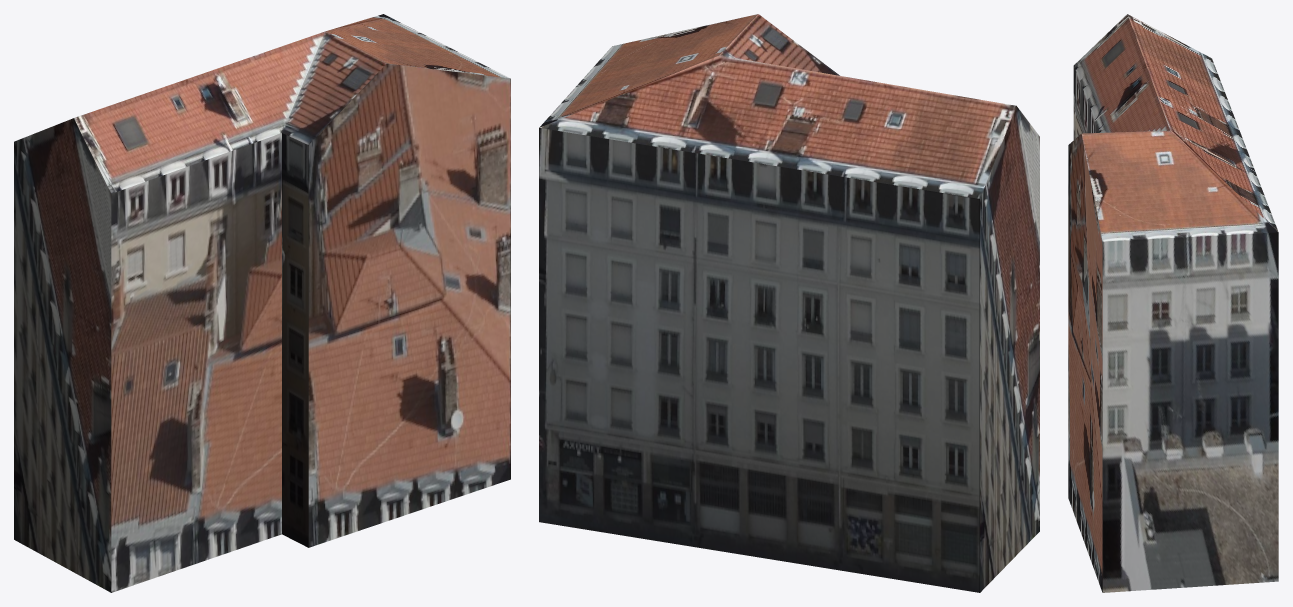
3 renders of one model, left to right at view 1: azimuth 30°, elevation 25°; view 2: azimuth 150°, elevation 25°; view 3: azimuth 270°, elevation 25°, orthographic. The views are drawn at different scales.
Visible parts, largest first — view 1: Z_UP; view 2: Z_UP; view 3: Z_UP.
Boxes of the visible parts, x1,y1,x2,y2 form: Z_UP: (14,14,510,592); Z_UP: (539,14,1039,592); Z_UP: (1068,14,1278,592).
Size of the model in its own units: 26.45 by 26.65 by 12.66.
2 materials, 1 textured.
